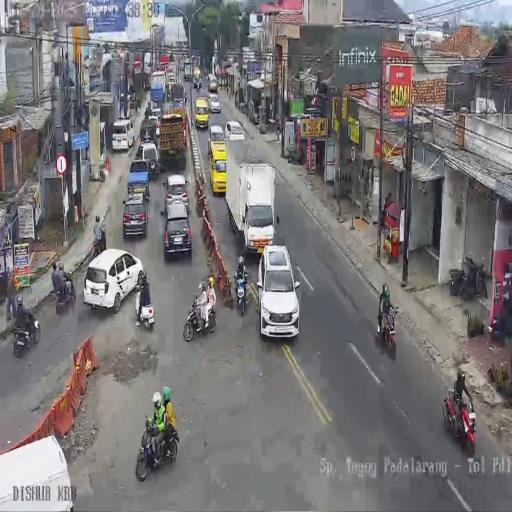3: (226, 156, 274, 255), (158, 112, 187, 171), (151, 70, 166, 104), (165, 70, 178, 98), (131, 54, 142, 87), (184, 60, 193, 83), (143, 51, 152, 72), (208, 75, 218, 92)
car: (258, 245, 300, 340), (83, 247, 143, 313), (122, 193, 148, 239), (165, 174, 190, 215), (112, 117, 135, 153), (140, 141, 160, 178), (208, 123, 225, 159), (139, 118, 158, 147), (194, 96, 210, 128), (224, 120, 245, 142), (147, 100, 162, 124), (208, 93, 221, 114)
truck: (135, 414, 178, 482), (444, 385, 476, 455), (183, 291, 217, 342), (12, 310, 41, 356), (462, 256, 486, 300), (377, 303, 398, 349), (490, 301, 512, 343), (134, 288, 155, 330), (55, 277, 76, 316), (234, 273, 248, 317), (449, 266, 465, 296), (90, 232, 104, 260), (276, 118, 282, 142), (192, 76, 202, 90), (240, 100, 246, 116)
